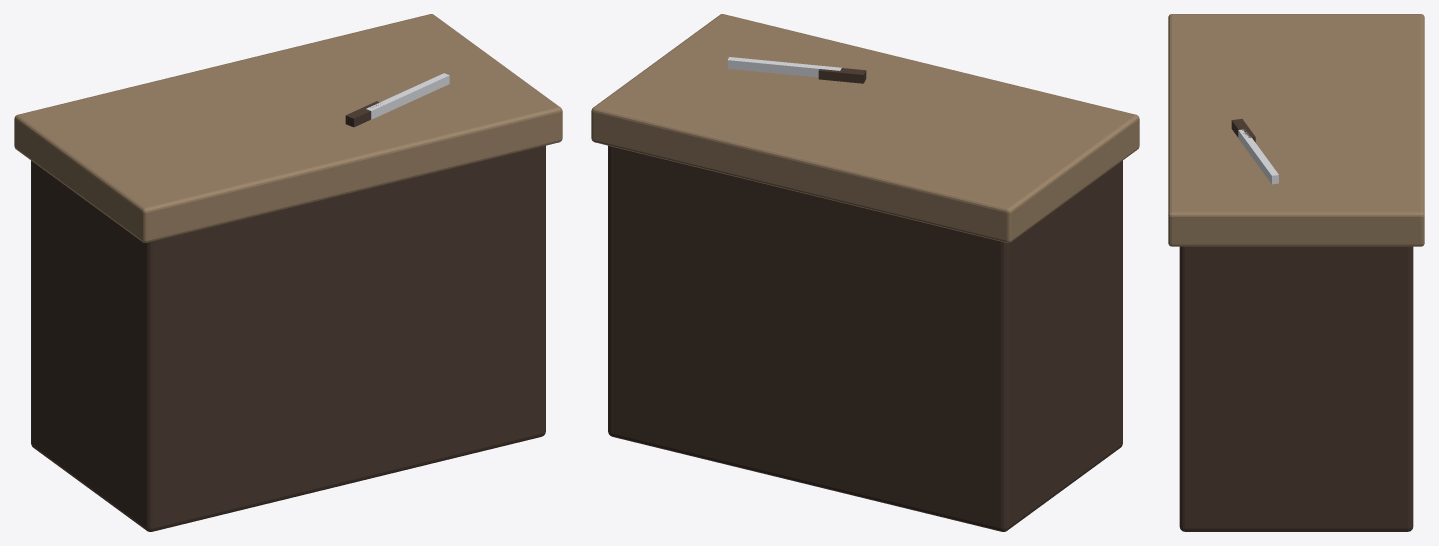
The model's file is kitchen_fixture_butcher_block.glb.
The picture shows the model from 3 angles, left to right: view 1: azimuth 30°, elevation 25°; view 2: azimuth 150°, elevation 25°; view 3: azimuth 270°, elevation 25°; orthographic projection.
Visible parts, largest first — view 1: GD_kitchen_fixture_butcher_block__m0, GD_kitchen_fixture_butcher_block__m1, GD_kitchen_fixture_butcher_block__m2; view 2: GD_kitchen_fixture_butcher_block__m0, GD_kitchen_fixture_butcher_block__m1, GD_kitchen_fixture_butcher_block__m2; view 3: GD_kitchen_fixture_butcher_block__m0, GD_kitchen_fixture_butcher_block__m1, GD_kitchen_fixture_butcher_block__m2.
Part boxes in pixels (x1,y1,x2,y2): GD_kitchen_fixture_butcher_block__m0: (31, 101, 545, 531); GD_kitchen_fixture_butcher_block__m1: (14, 14, 562, 242); GD_kitchen_fixture_butcher_block__m2: (366, 73, 449, 119); GD_kitchen_fixture_butcher_block__m0: (608, 68, 1122, 531); GD_kitchen_fixture_butcher_block__m1: (591, 14, 1139, 242); GD_kitchen_fixture_butcher_block__m2: (727, 57, 841, 77); GD_kitchen_fixture_butcher_block__m0: (1179, 119, 1413, 531); GD_kitchen_fixture_butcher_block__m1: (1168, 14, 1424, 246); GD_kitchen_fixture_butcher_block__m2: (1238, 129, 1278, 184).
Bounding box in the file's own units: 1.26 × 0.975 × 0.68.
